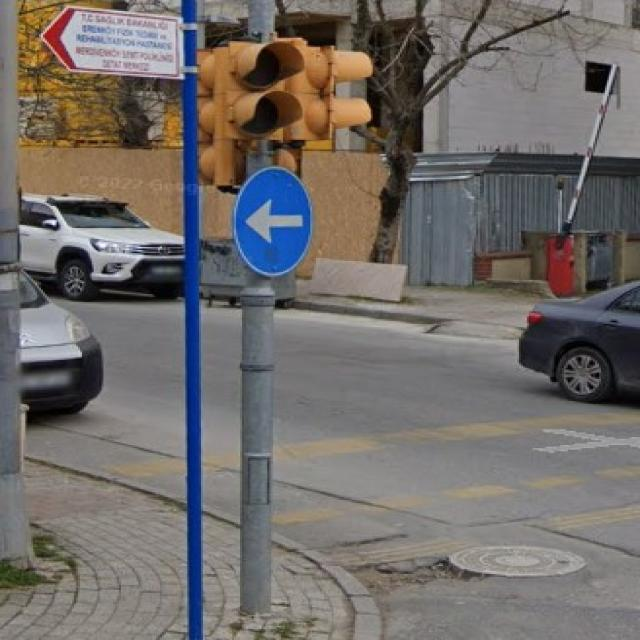Turn Left: (230, 171, 312, 284)
